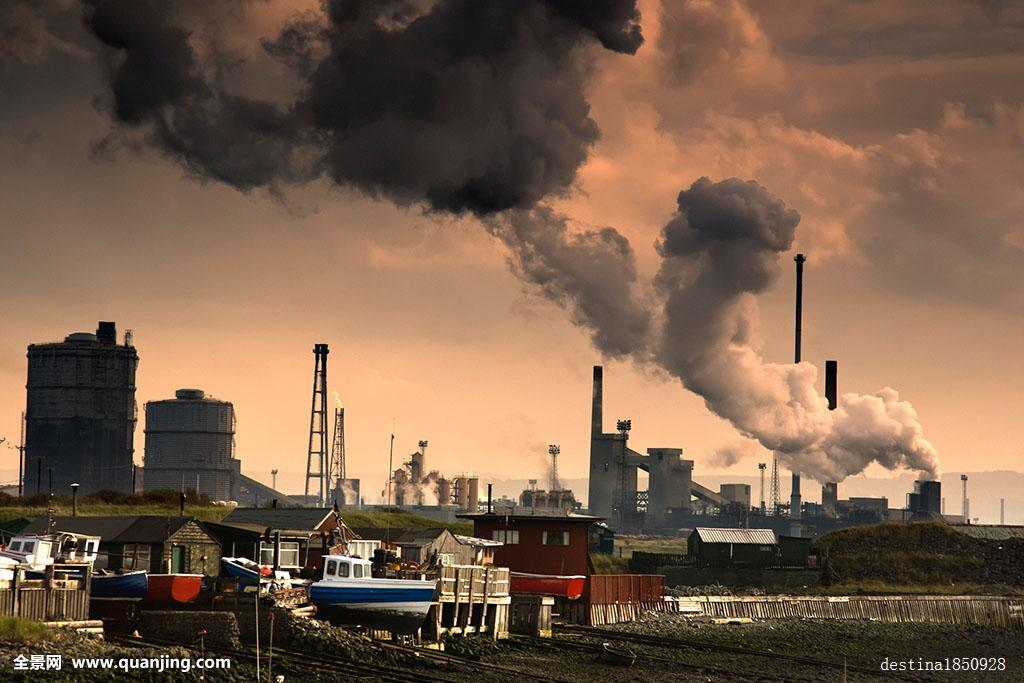dust: (723, 372, 977, 497)
